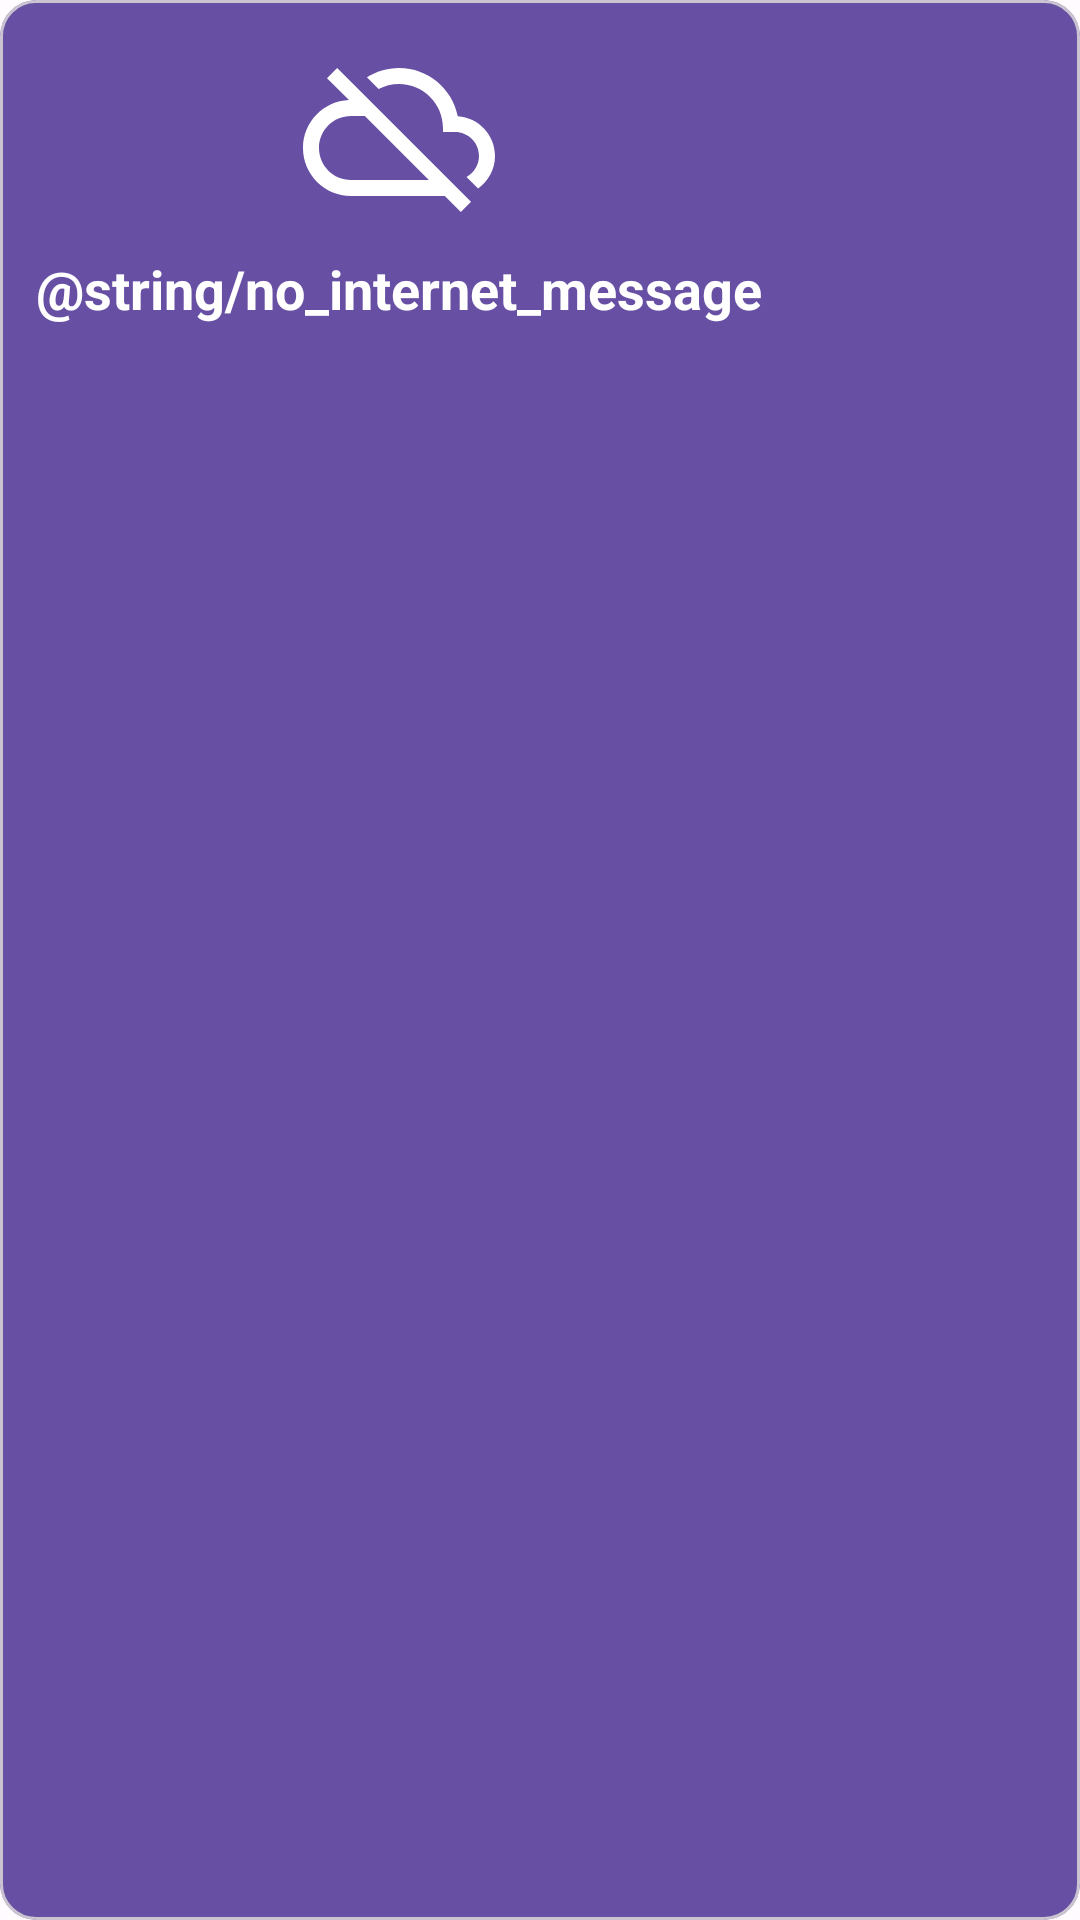

Icons on this 1080*1920 Android screen, each with its box as (x1, y1, x2, y2):
cloud off: (303, 68, 495, 212)
